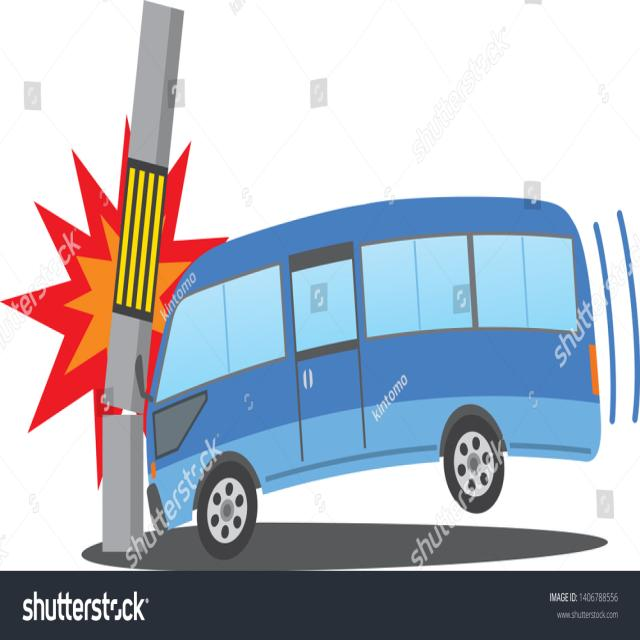Accident: (104, 172, 610, 560)
